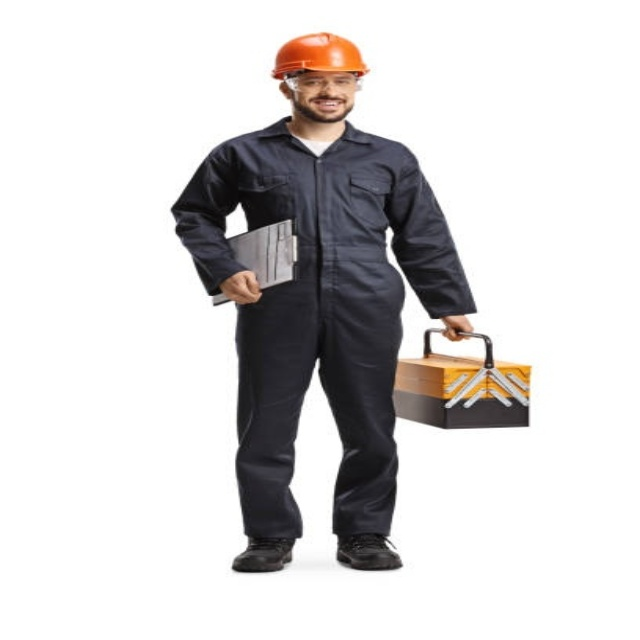Gafas: (285, 74, 369, 96)
Sin_guantes: (212, 264, 264, 308), (439, 315, 475, 338)
Sin_mascara: (309, 97, 348, 116)
